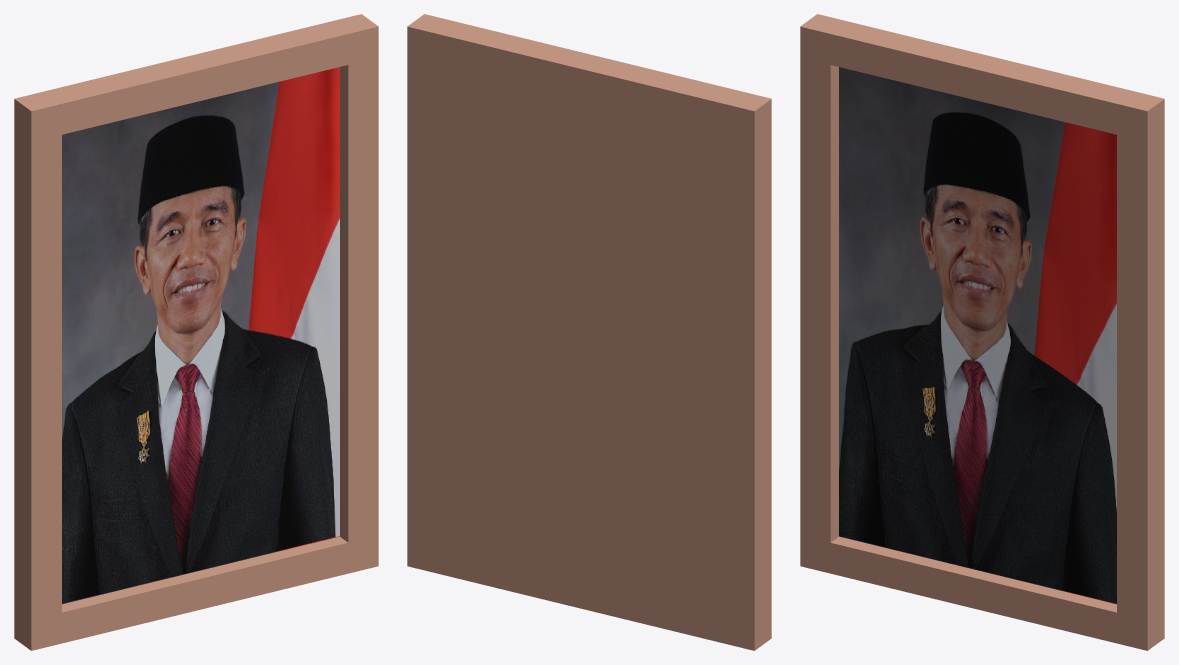
File: Foto.fbx
3 renders of one model, left to right at view 1: azimuth 30°, elevation 25°; view 2: azimuth 150°, elevation 25°; view 3: azimuth 330°, elevation 25°, orthographic.
Parts seen in each view (by area): view 1: Plane.002; view 2: Plane.002; view 3: Plane.002.
Boxes of the visible parts, x1=… form: Plane.002: x1=14, y1=14, x2=378, y2=650; Plane.002: x1=407, y1=14, x2=771, y2=650; Plane.002: x1=800, y1=14, x2=1164, y2=650.
Size of the model in its own units: 189 by 280 by 16.17.
Materials: 2 (1 with a texture image).
